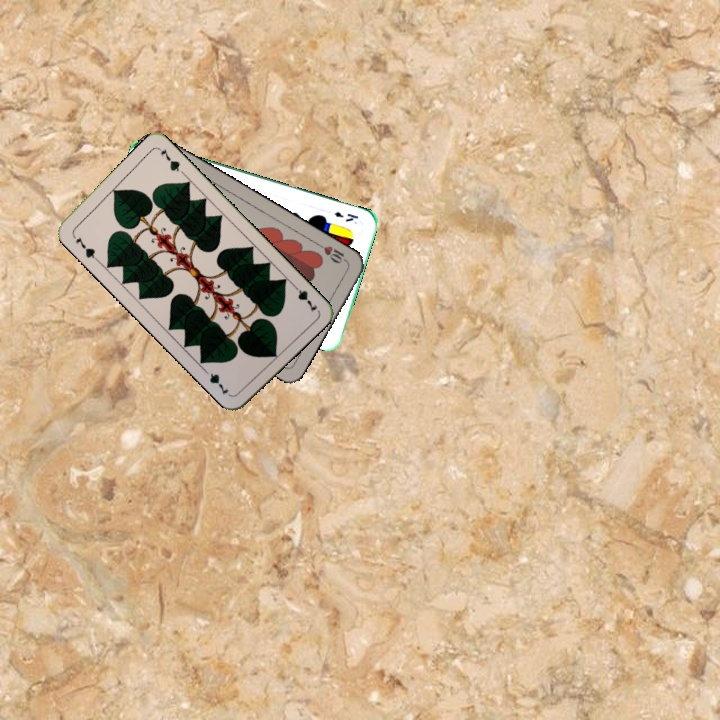EK: (330, 207, 361, 224)
G7: (288, 280, 320, 315), (69, 230, 100, 263)
H10: (314, 239, 351, 266)
